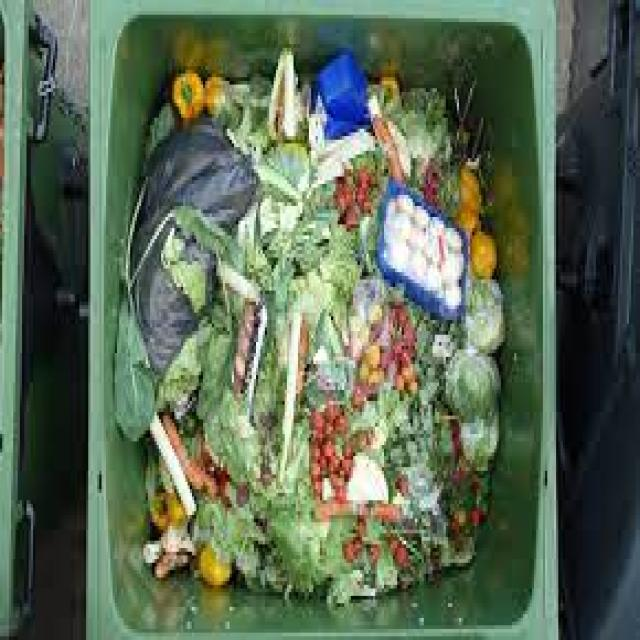Wet: (384, 199, 462, 305), (314, 499, 404, 529), (310, 405, 338, 492), (172, 68, 204, 122), (456, 166, 482, 232), (205, 541, 235, 592), (473, 234, 496, 278)
